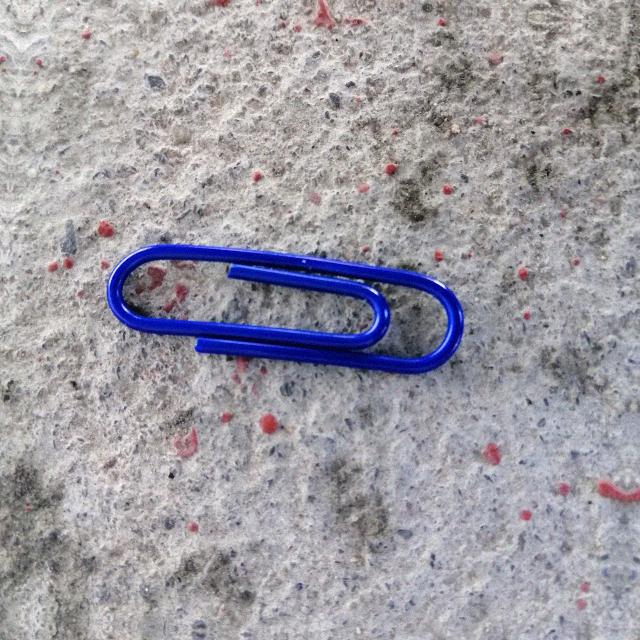pin: (108, 241, 462, 371)
